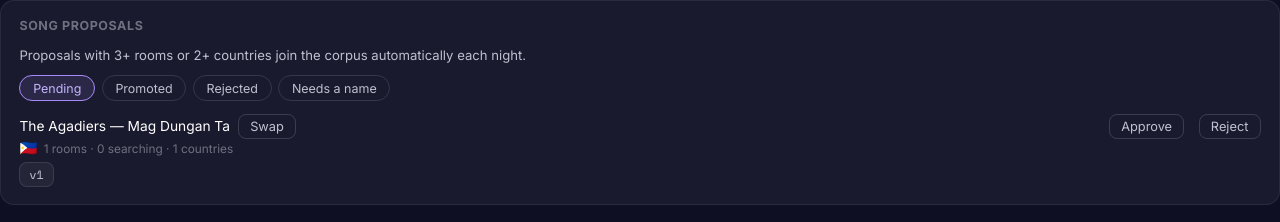
Test: Proposals › drops a row from the list once it's approved
Step 1. Click the button "Approve" → click(1147, 127), box 1109,114 -> 1184,139
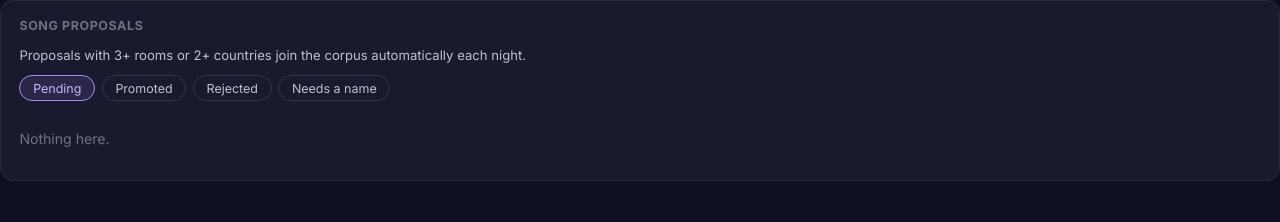
Expected: the text "The Agadiers — Mag Dungan Ta" is gone
